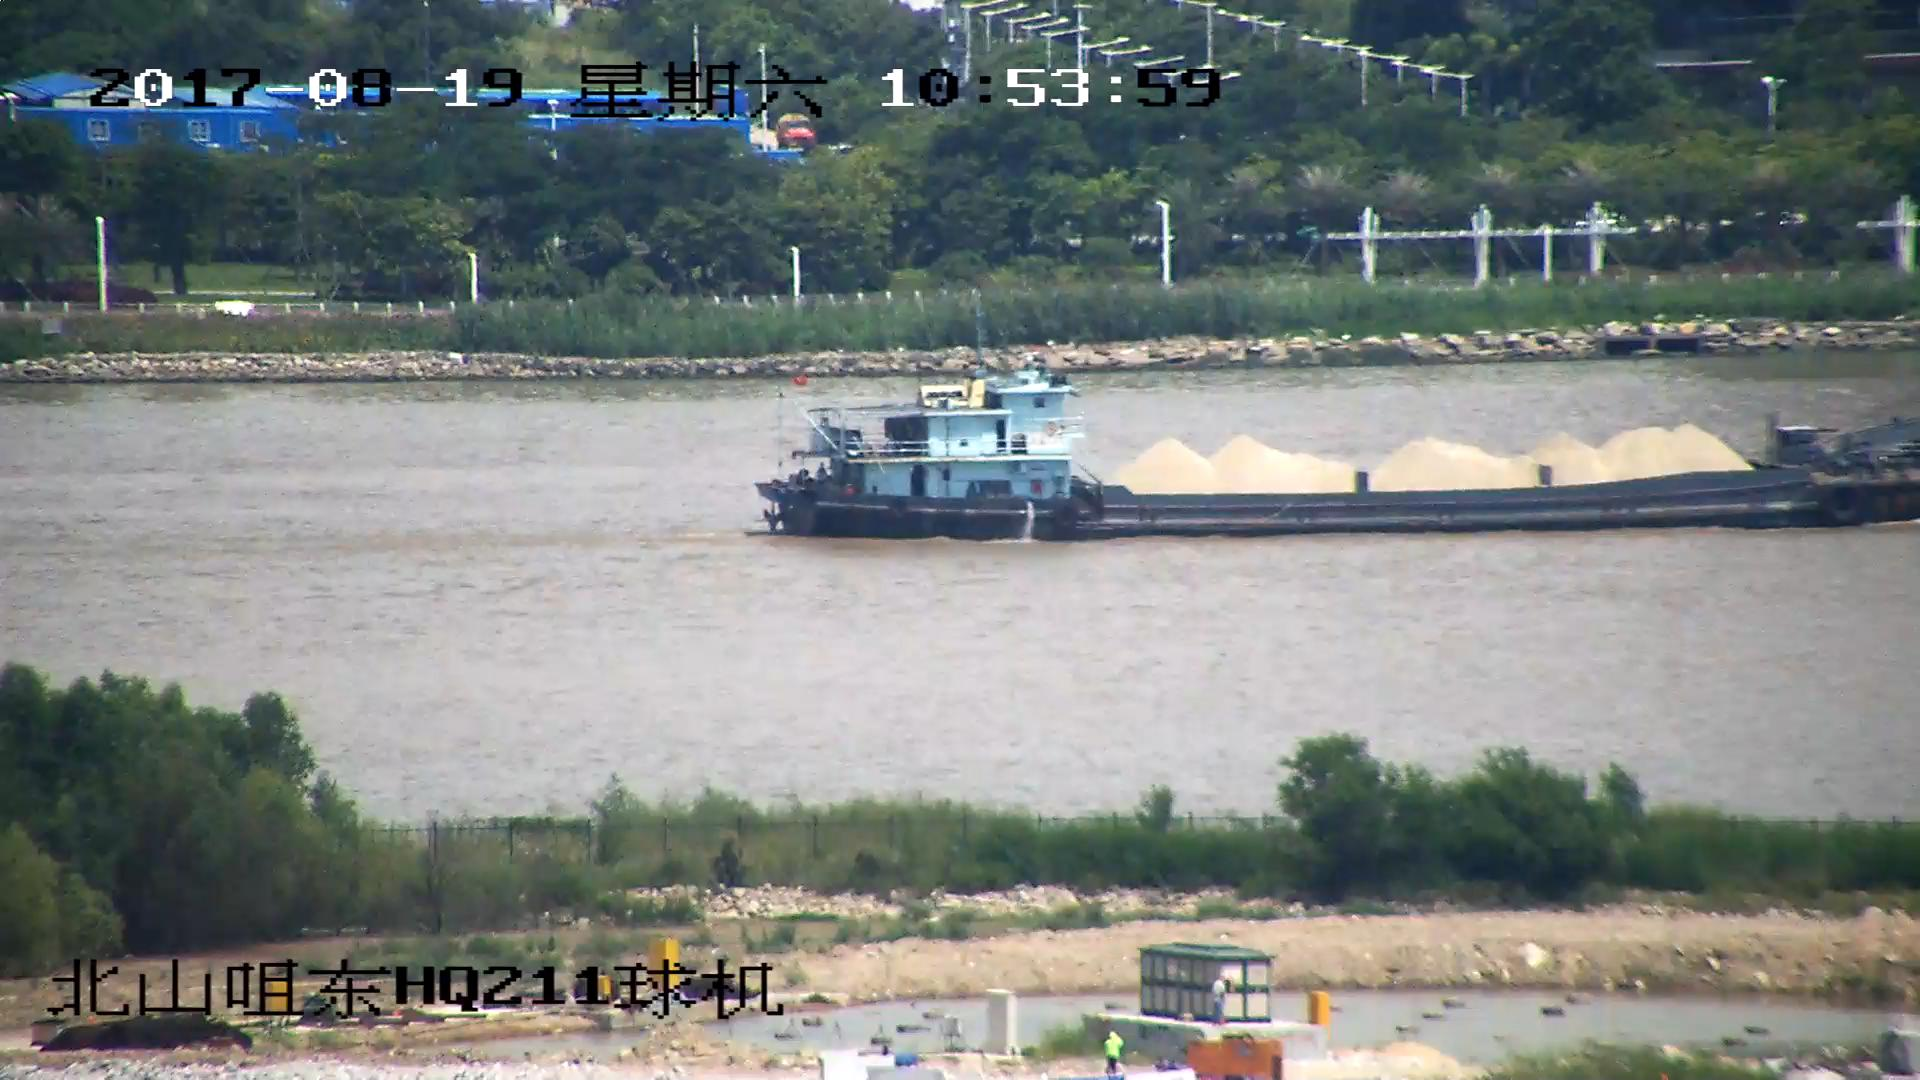ore carrier: (761, 319, 1920, 542)
